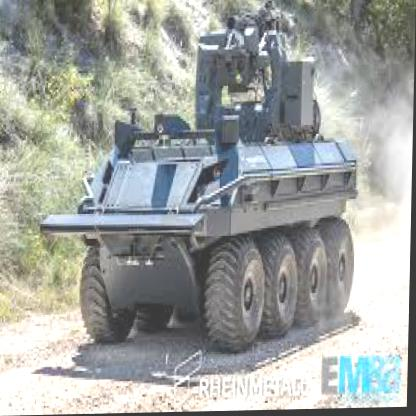UGV: (39, 114, 361, 359)
